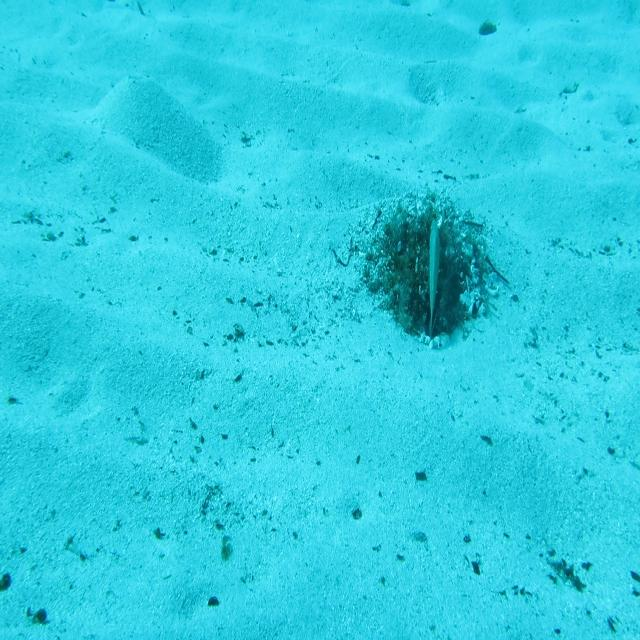FAN: (422, 221, 448, 347)
nest: (373, 194, 509, 354)
